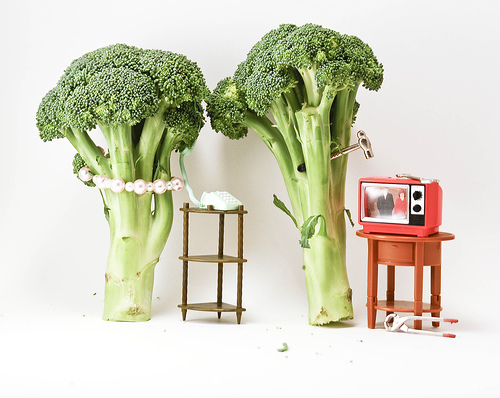broccoli: (207, 22, 384, 326), (34, 39, 205, 325)
